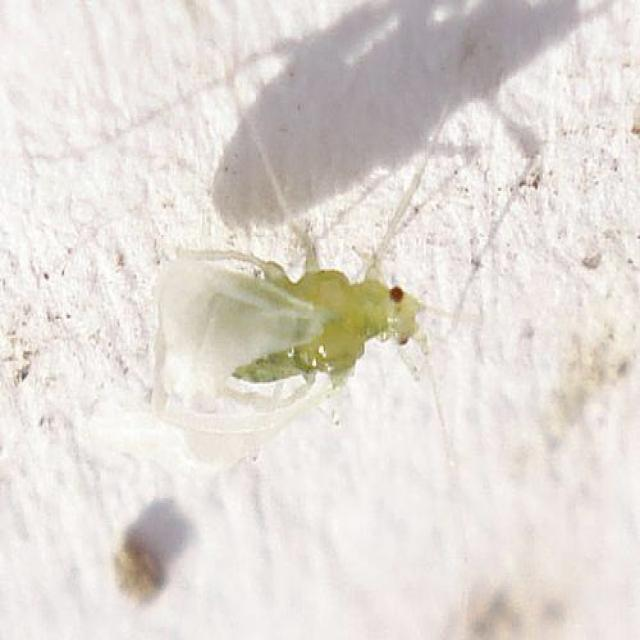Aphids: (142, 124, 532, 413)
